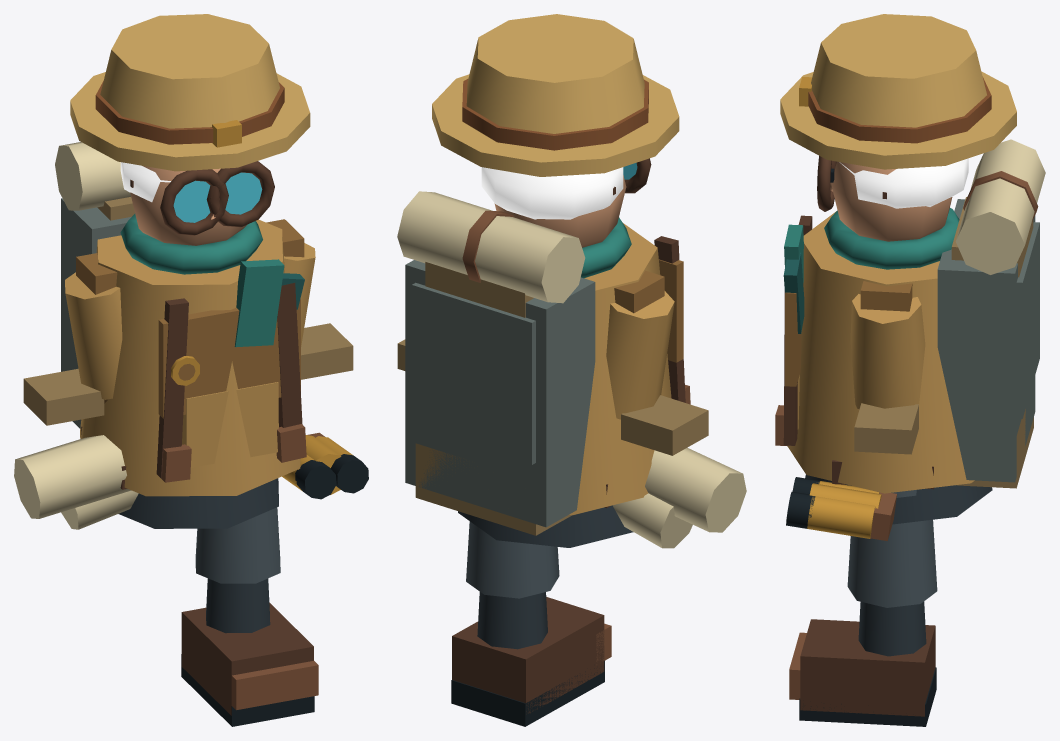
Rendered from asset.glb.
3 views of the same model, side by side, from view 1: azimuth 30°, elevation 25°; view 2: azimuth 150°, elevation 25°; view 3: azimuth 270°, elevation 25° (orthographic). The views are drawn at different scales.
Visible parts, largest first — view 1: LowPolyExplorer, Left_Leg, Backpack, Rolled_Map, Left_Arm, Scarf_Collar, Binoculars, Right_Arm; view 2: LowPolyExplorer, Backpack, Left_Leg, Left_Arm, Rolled_Map, Scarf_Collar; view 3: LowPolyExplorer, Backpack, Left_Leg, Right_Arm, Binoculars, Scarf_Collar.
Boxes of the visible parts, left/top/right/bottom form: LowPolyExplorer: left=23, top=14, right=353, bottom=528; Left_Leg: left=181, top=507, right=318, bottom=726; Backpack: left=55, top=142, right=134, bottom=428; Rolled_Map: left=14, top=435, right=131, bottom=518; Left_Arm: left=61, top=272, right=138, bottom=529; Scarf_Collar: left=120, top=213, right=262, bottom=274; Binoculars: left=282, top=432, right=368, bottom=499; Right_Arm: left=284, top=243, right=315, bottom=346; LowPolyExplorer: left=397, top=14, right=708, bottom=547; Backpack: left=397, top=191, right=595, bottom=535; Left_Leg: left=451, top=521, right=611, bottom=726; Left_Arm: left=606, top=291, right=692, bottom=548; Rolled_Map: left=645, top=447, right=746, bottom=532; Scarf_Collar: left=581, top=217, right=631, bottom=278; LowPolyExplorer: left=775, top=14, right=1016, bottom=524; Backpack: left=937, top=139, right=1045, bottom=488; Left_Leg: left=789, top=490, right=937, bottom=726; Right_Arm: left=850, top=294, right=925, bottom=409; Binoculars: left=786, top=477, right=896, bottom=540; Scarf_Collar: left=824, top=208, right=959, bottom=269.
Bounding box in the file's own units: 1.75 × 3.42 × 1.32.
